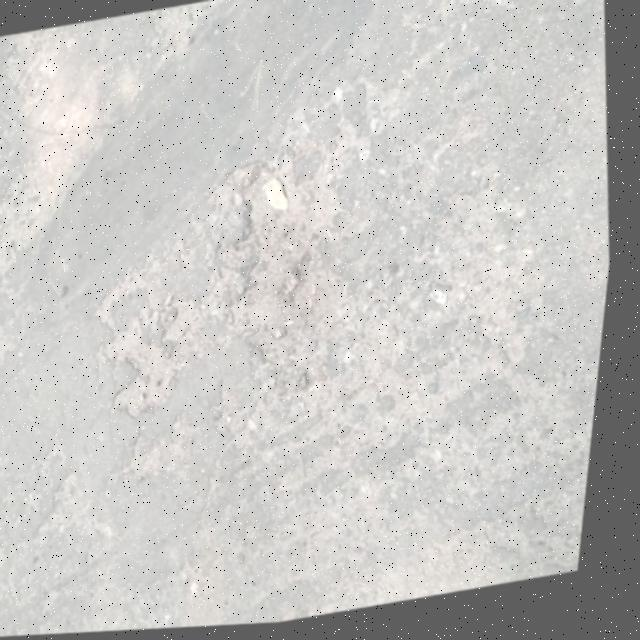pothole: (196, 144, 377, 392), (94, 290, 229, 428)
